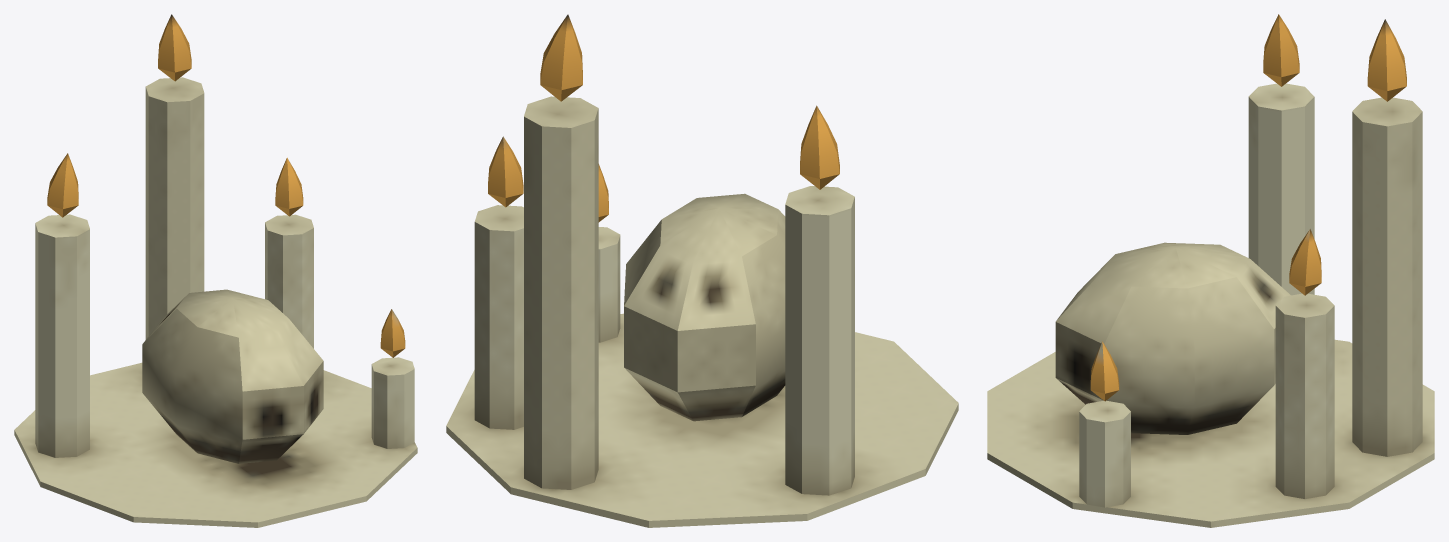
Rendered from Candles_Skull_01.obj.
3 views of the same model, side by side, from view 1: azimuth 30°, elevation 25°; view 2: azimuth 150°, elevation 25°; view 3: azimuth 270°, elevation 25° (orthographic). The views are drawn at different scales.
Parts seen in each view (by area): view 1: Candles_Skull_01; view 2: Candles_Skull_01; view 3: Candles_Skull_01.
Part boxes in pixels (bbox=[...]): Candles_Skull_01: bbox=[14, 14, 417, 527]; Candles_Skull_01: bbox=[446, 14, 958, 527]; Candles_Skull_01: bbox=[987, 14, 1434, 527].
Bounding box in the file's own units: 0.4 × 0.4005 × 0.3804.
Materials: 1 (1 with a texture image).
